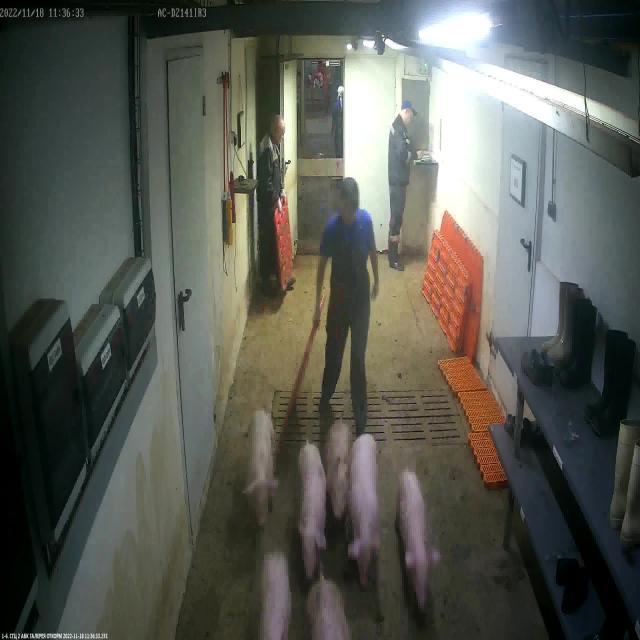pig: (398, 473, 440, 607), (350, 435, 379, 588), (244, 411, 279, 527), (298, 445, 326, 585), (324, 422, 356, 521), (310, 574, 352, 640), (262, 555, 292, 640)
